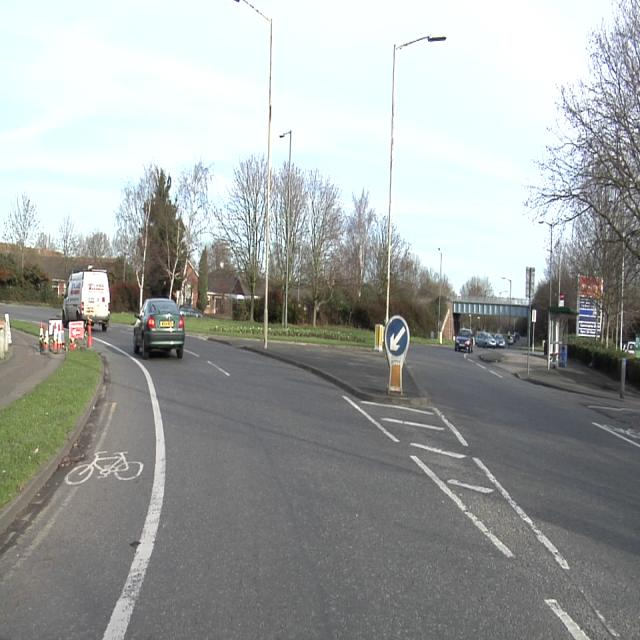Car: (134, 299, 183, 357), (455, 329, 472, 351), (476, 332, 494, 347), (494, 334, 504, 347)
Road: (2, 333, 638, 618)
Tree: (524, 0, 639, 344), (117, 155, 266, 311), (269, 164, 387, 326), (392, 222, 449, 335), (1, 193, 51, 301), (56, 213, 110, 262), (460, 277, 492, 297)
Truck_Bus: (64, 267, 110, 330)
